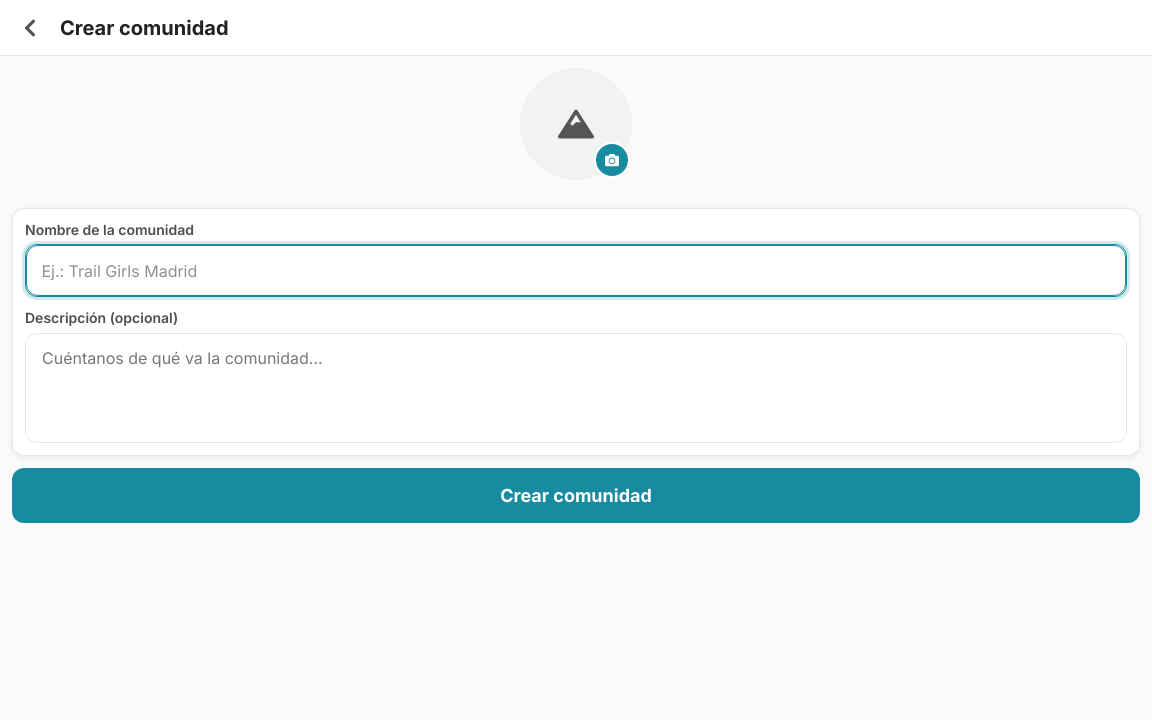
Test: CommunityCreate (/communities/new) › shows the failure in place and stays on the form
This screenshot has width=1152, height=720.
In the field labelled "Nombre de la comunidad": (576, 271) [26,245,1126,296], type "Nueva"
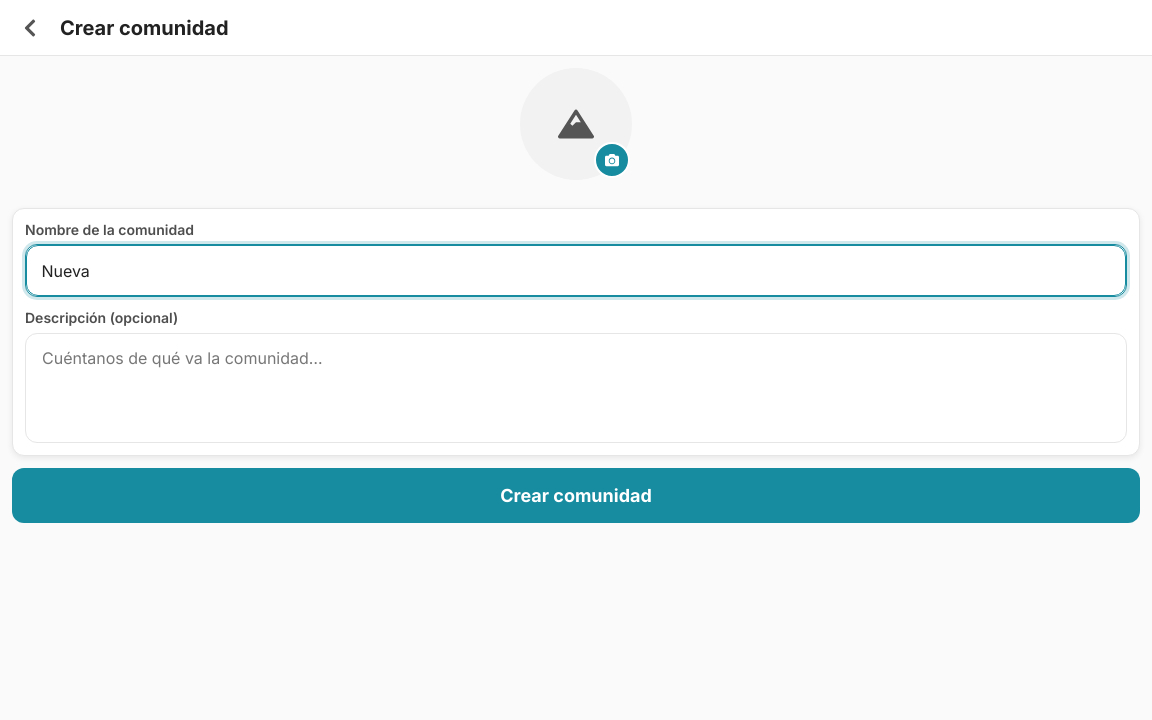
Click the button "Crear comunidad": (576, 496) [12,468,1140,523]
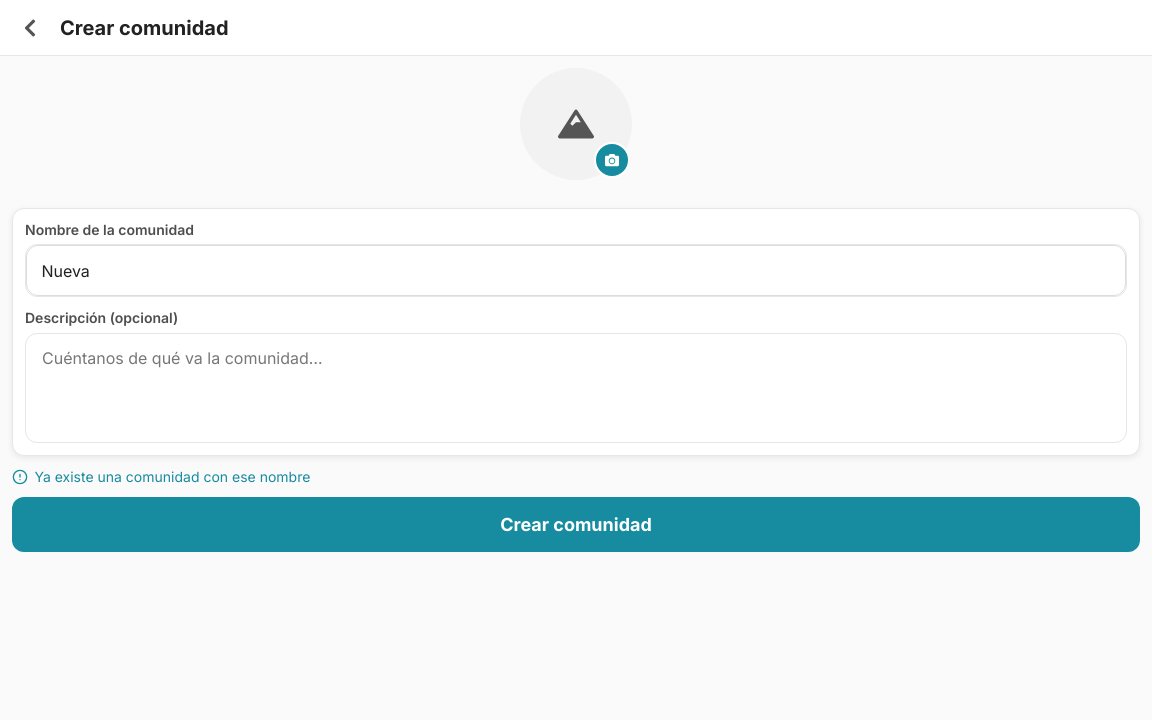
Now the text "Ya existe una comunidad con ese nombre" is shown, box [12,468,310,485]
